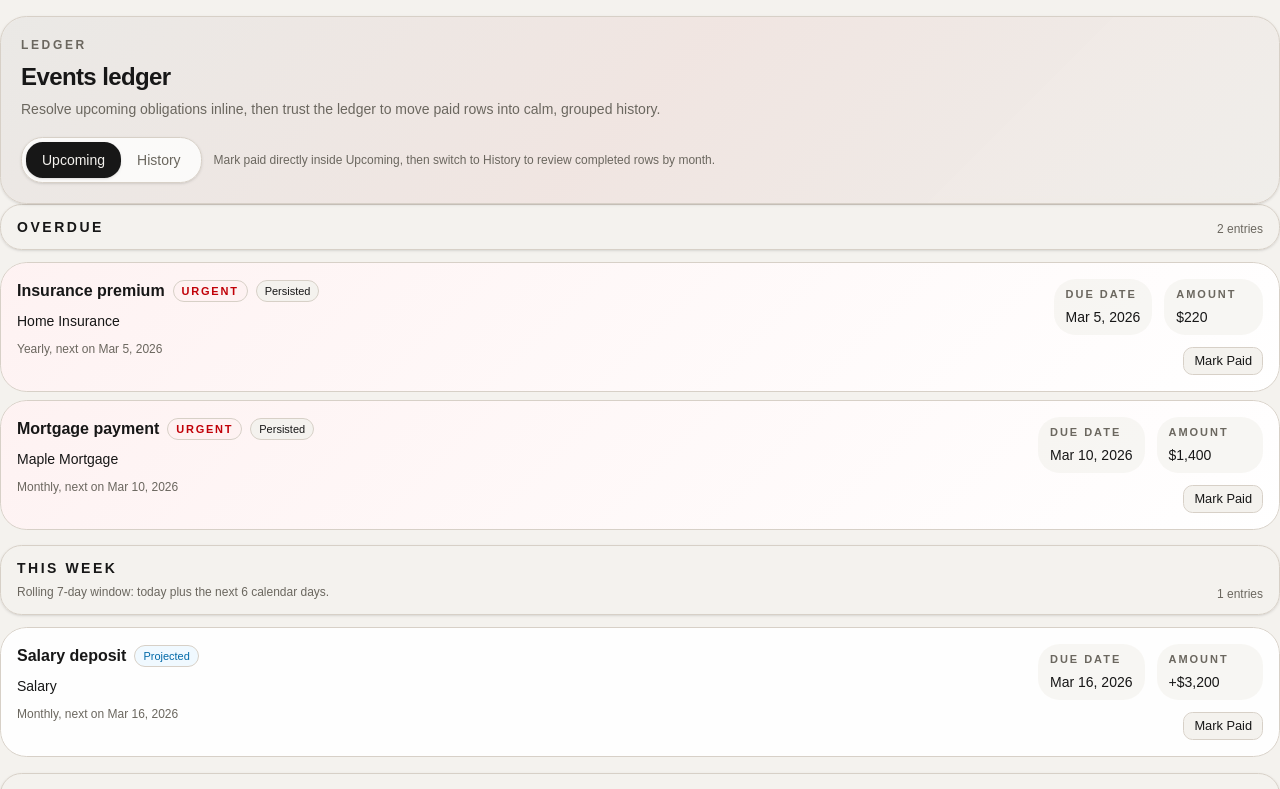
it: events ledger page › keeps manual override history rows visible with exceptional warning treatment
Click the tab "History".
click(159, 160)  # box [121,142,197,178]
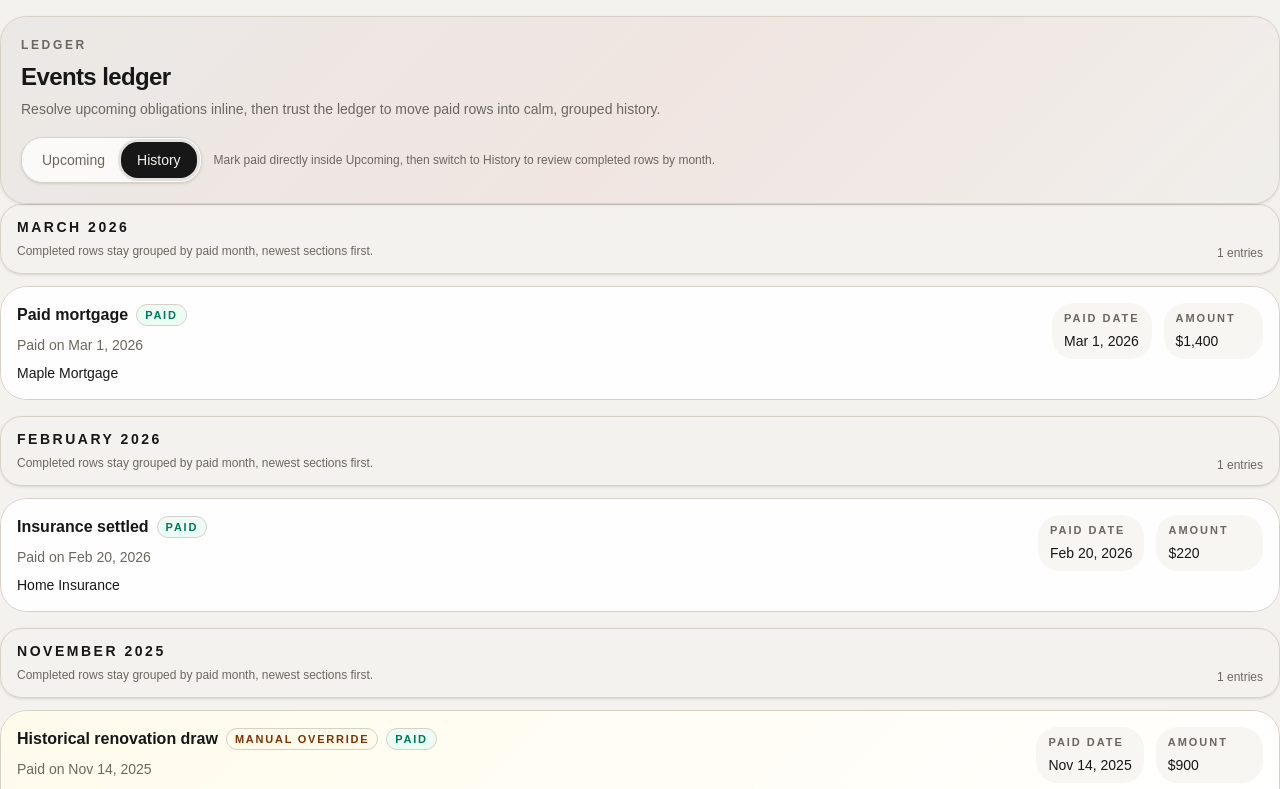
Now the heading "November 2025" is shown, box [17,643,166,659]
Now the heading "Historical renovation draw" is shown, box [17,727,218,751]
Now the text "Manual override" is shown, box [226,728,378,750]
